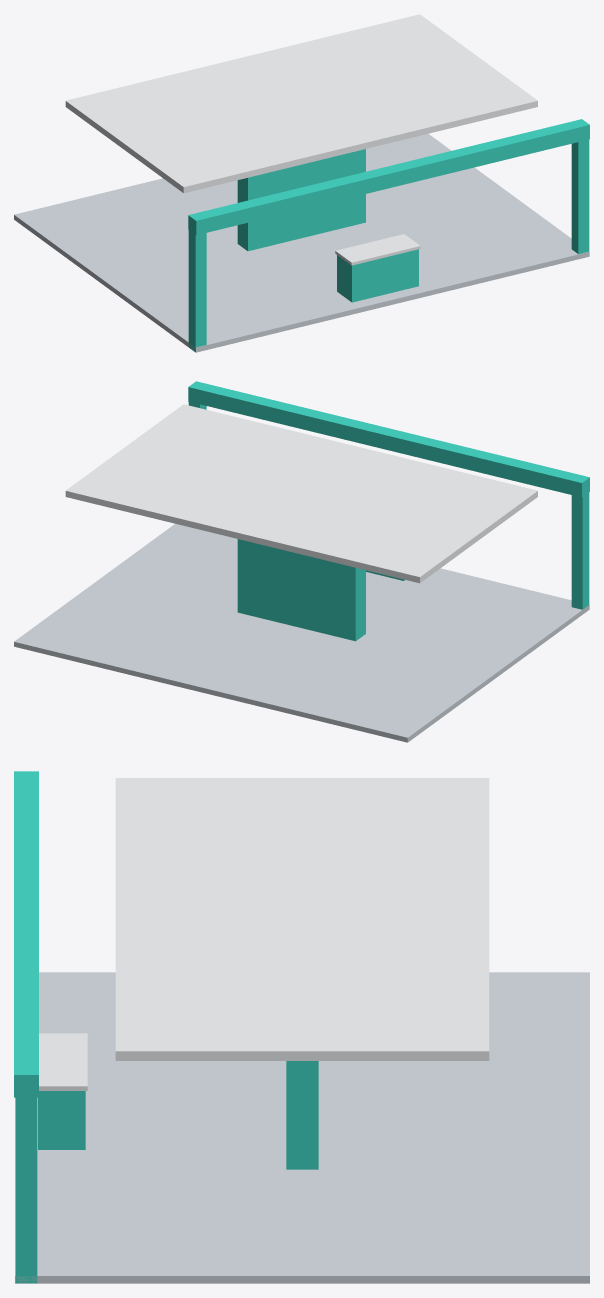
3 renders of one model, top to bottom at view 1: azimuth 30°, elevation 25°; view 2: azimuth 150°, elevation 25°; view 3: azimuth 270°, elevation 25°, orthographic. The views are drawn at different scales.
Visible parts, largest first — view 1: Exhibition Booth Concept; view 2: Exhibition Booth Concept; view 3: Exhibition Booth Concept.
Boxes of the visible parts, bbox=[...] form: Exhibition Booth Concept: bbox=[14, 14, 589, 352]; Exhibition Booth Concept: bbox=[14, 381, 589, 742]; Exhibition Booth Concept: bbox=[14, 771, 589, 1283].
Bounding box in the file's own units: 10 × 3.34 × 8.01.
